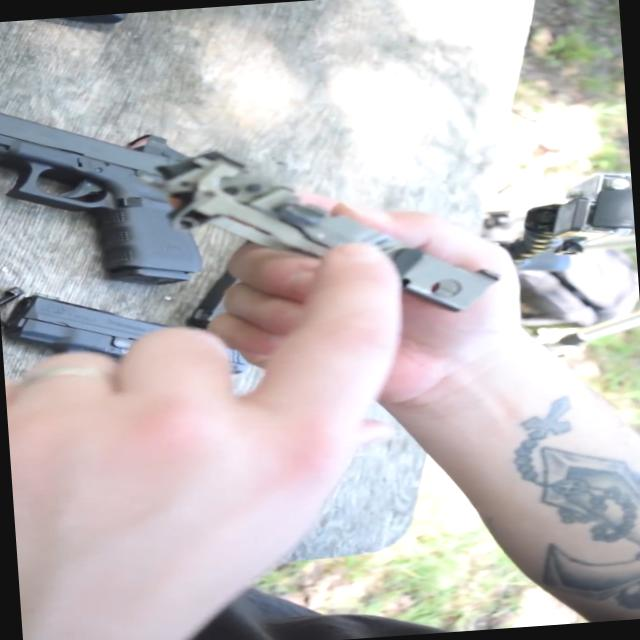handgun: (0, 65, 239, 308)
